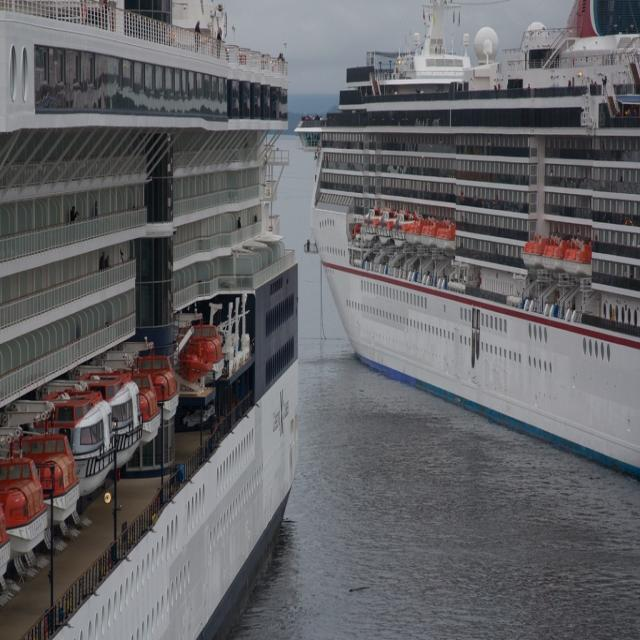Boat: (0, 0, 299, 639), (290, 0, 640, 482)
